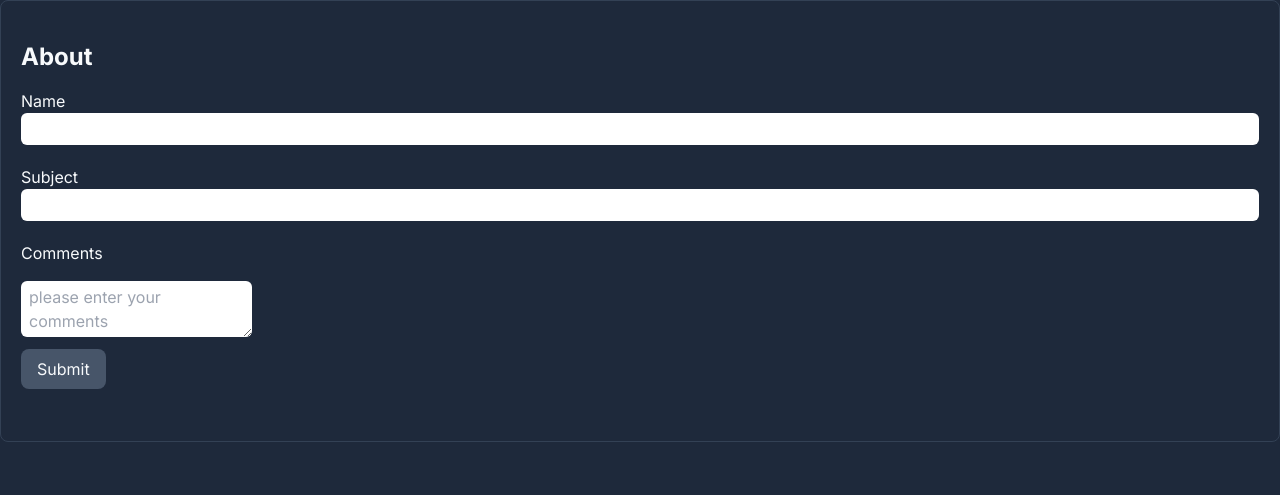
Test: submit success
The width and height of the screenshot is (1280, 495).
Type "Abraham" into the field labelled "Name".
click(640, 129); type("Abraham")  # box [21,113,1259,145]
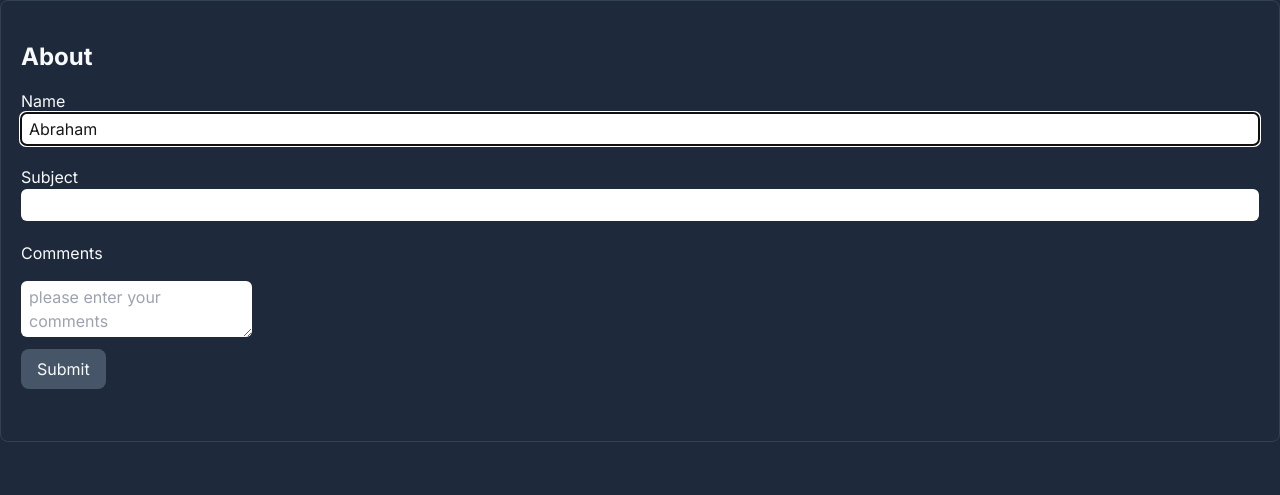
Type "My feedback" into the field labelled "Subject".
click(640, 205); type("My feedback")  # box [21,189,1259,221]
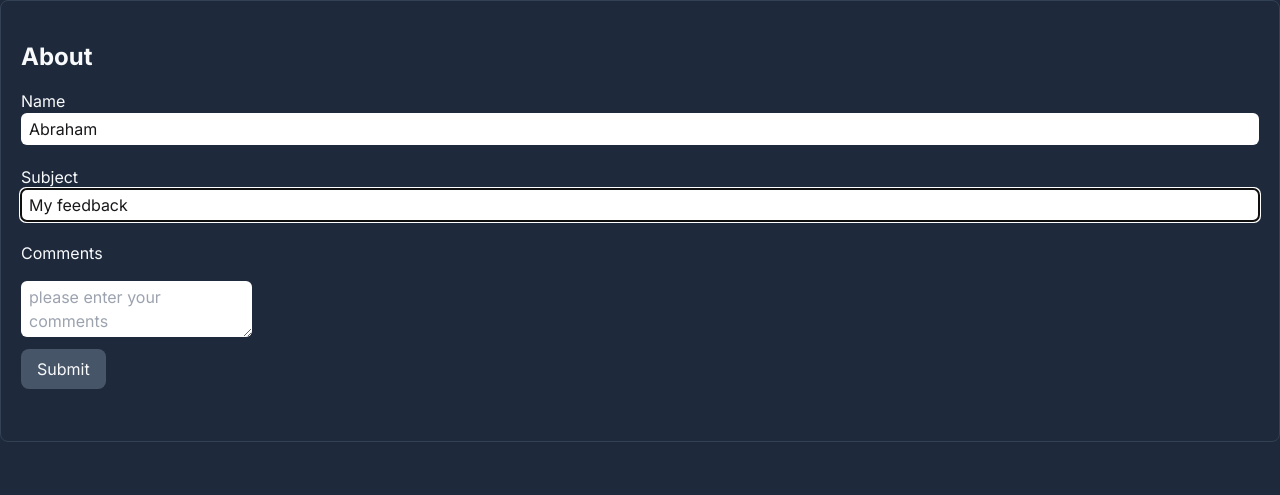
Type "My comments" into the text box labelled "Comments".
click(136, 309); type("My comments")  # box [21,281,252,337]
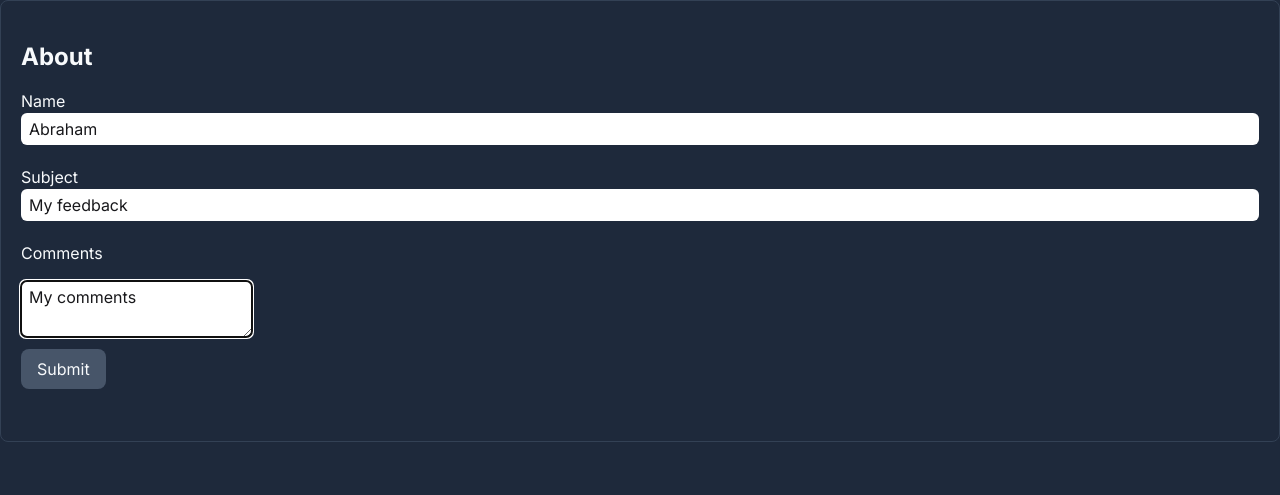
Click the button "Submit".
click(63, 369)  # box [21,349,106,389]
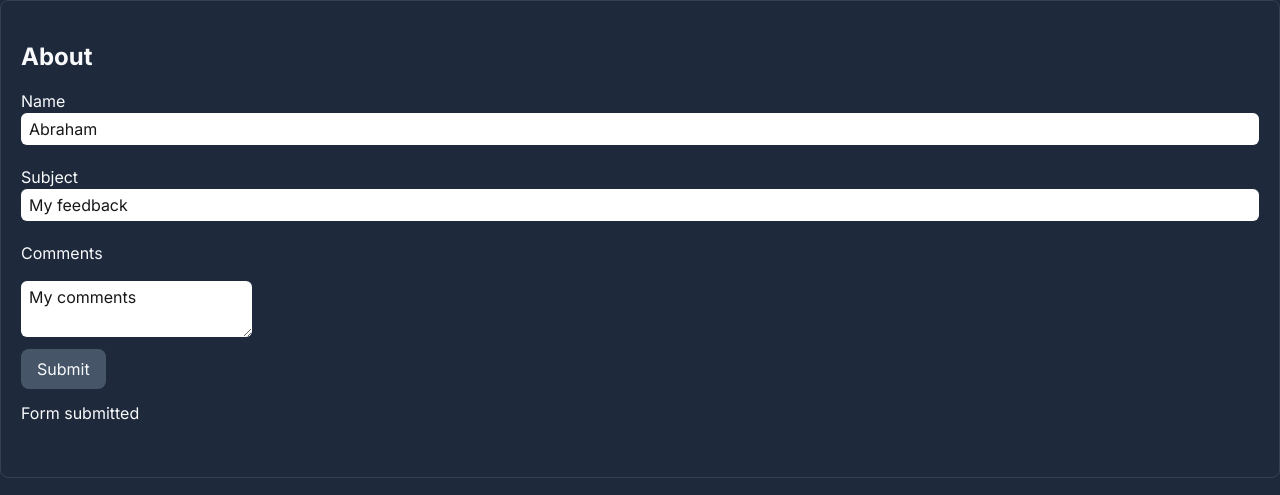
Expected: the text "Form submitted" is shown, [21,403,139,423]
